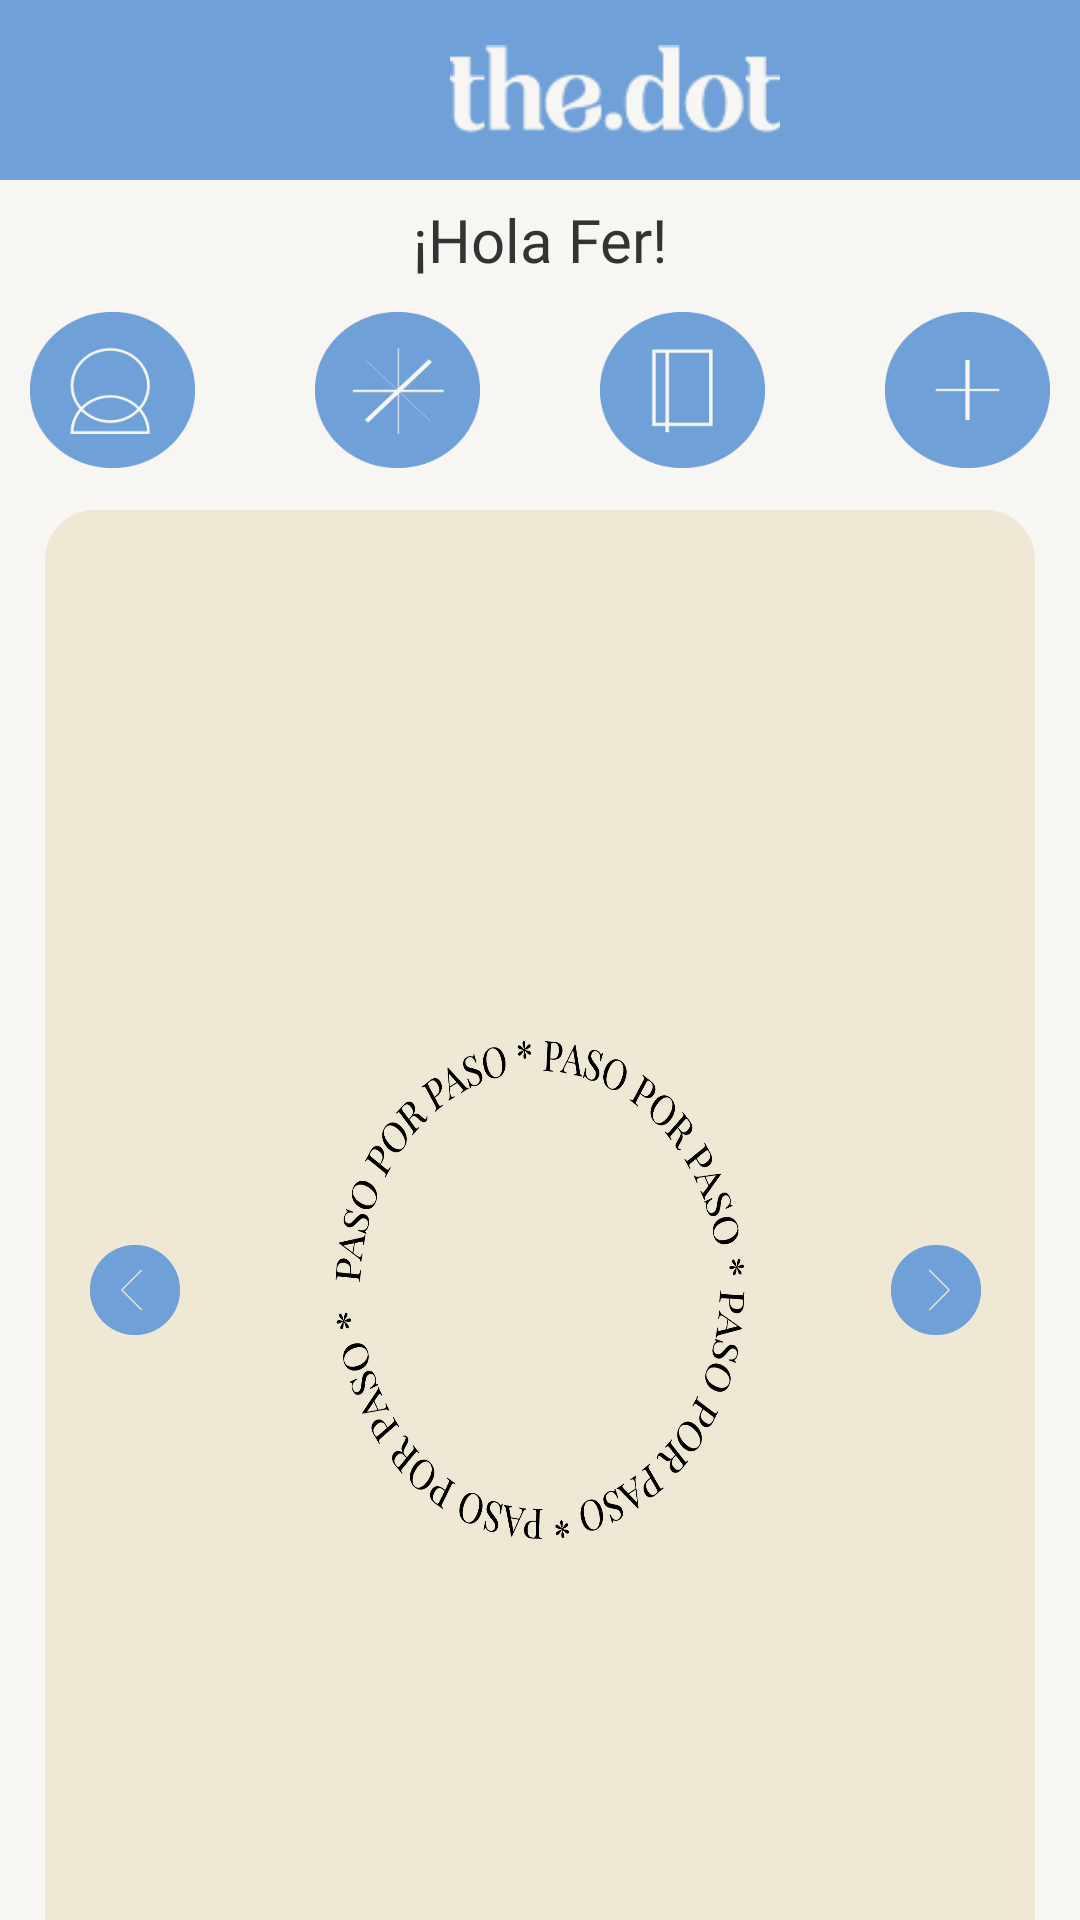

Point at icon controls on the screen. Image size 1080*1920, points as point (x, y).
avanzar xxxdpi: point (936, 1290)
journal xxxdpi: point (682, 390)
perfil xxxdpi: point (112, 390)
regresar xxxdpi: point (135, 1290)
